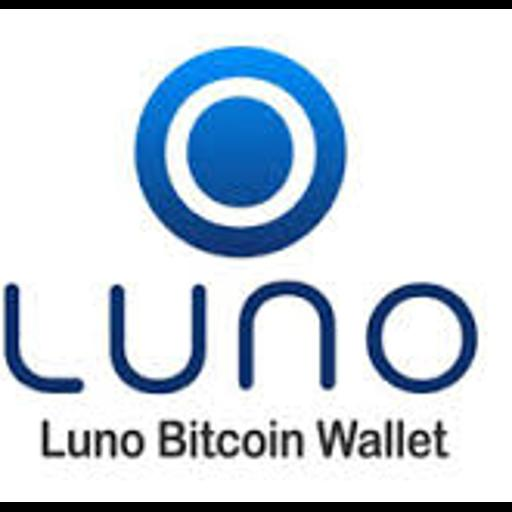Luno: (0, 9, 512, 502)
